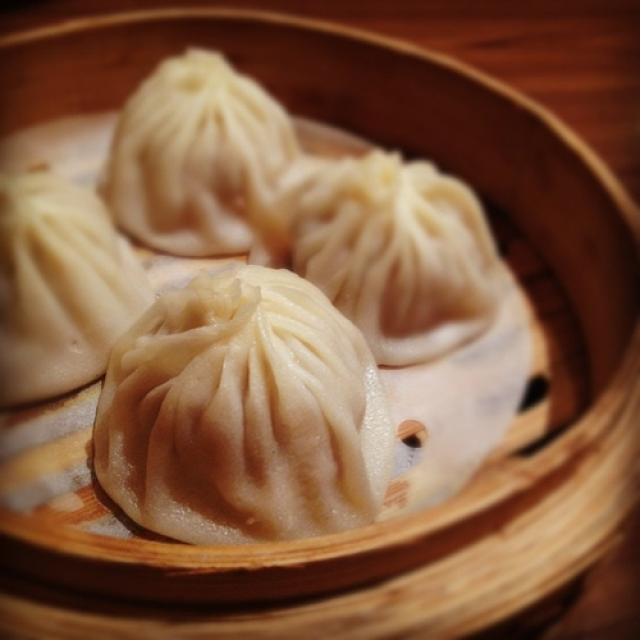带馅早点: (15, 13, 603, 631)
